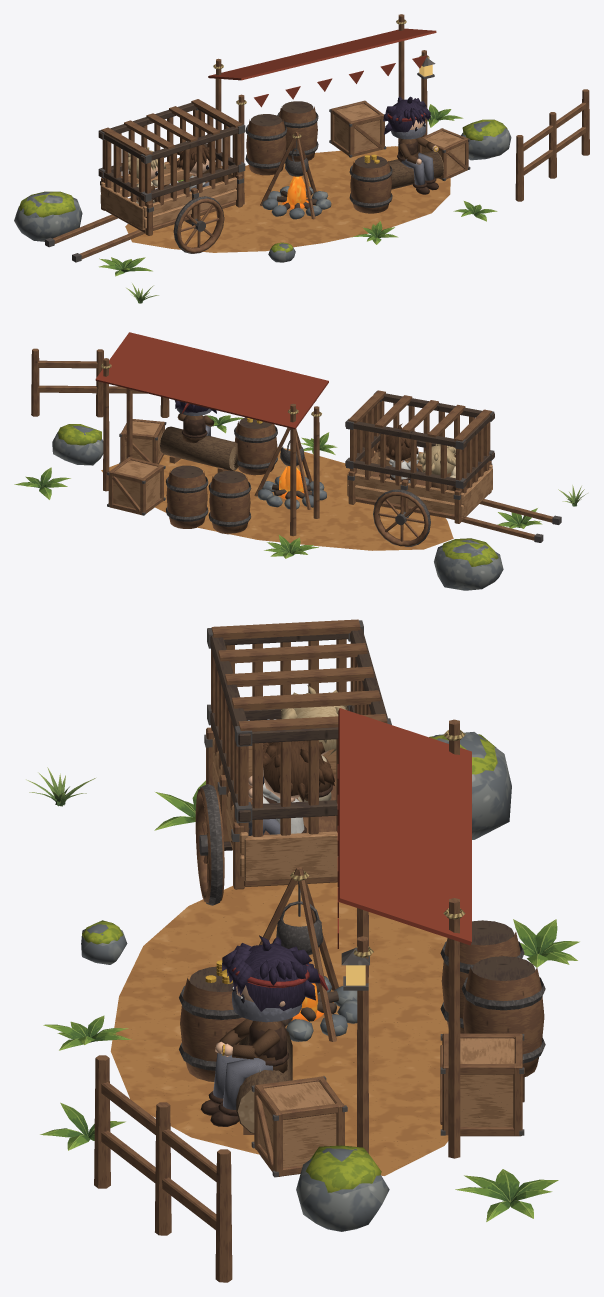
The model's file is ev06_cage.glb.
3 views of the same model, one above another, from view 1: azimuth 30°, elevation 25°; view 2: azimuth 150°, elevation 25°; view 3: azimuth 270°, elevation 25° (orthographic). The views are drawn at different scales.
Visible parts, largest first — view 1: ev06_cage_ground_details, ev06_cage_camp, ev06_cage_cage_cart, ev06_cage_people, ev06_cage_plants; view 2: ev06_cage_camp, ev06_cage_ground_details, ev06_cage_cage_cart, ev06_cage_people, ev06_cage_plants; view 3: ev06_cage_camp, ev06_cage_ground_details, ev06_cage_cage_cart, ev06_cage_people, ev06_cage_plants.
Boxes of the visible parts, left/top/right/bottom form: ev06_cage_ground_details: left=14, top=89, right=589, bottom=262; ev06_cage_camp: left=208, top=14, right=470, bottom=219; ev06_cage_cage_cart: left=45, top=99, right=245, bottom=262; ev06_cage_people: left=128, top=96, right=438, bottom=203; ev06_cage_plants: left=99, top=104, right=497, bottom=303; ev06_cage_camp: left=95, top=332, right=328, bottom=536; ev06_cage_ground_details: left=31, top=348, right=503, bottom=590; ev06_cage_cage_cart: left=345, top=390, right=561, bottom=546; ev06_cage_people: left=174, top=400, right=455, bottom=491; ev06_cage_plants: left=14, top=415, right=587, bottom=558; ev06_cage_camp: left=179, top=708, right=545, bottom=1177; ev06_cage_ground_details: left=81, top=732, right=511, bottom=1282; ev06_cage_cage_cart: left=195, top=619, right=391, bottom=905; ev06_cage_people: left=200, top=685, right=347, bottom=1126; ev06_cage_plants: left=26, top=767, right=579, bottom=1221.
Size of what is drawn, in the model's own units: 8.54 by 2.21 by 3.96.
30 materials, 30 textured.
